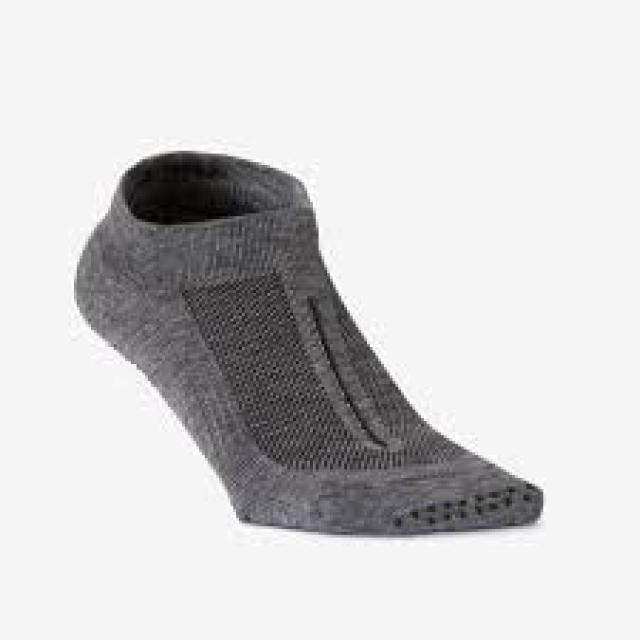sock: (71, 148, 543, 535)
